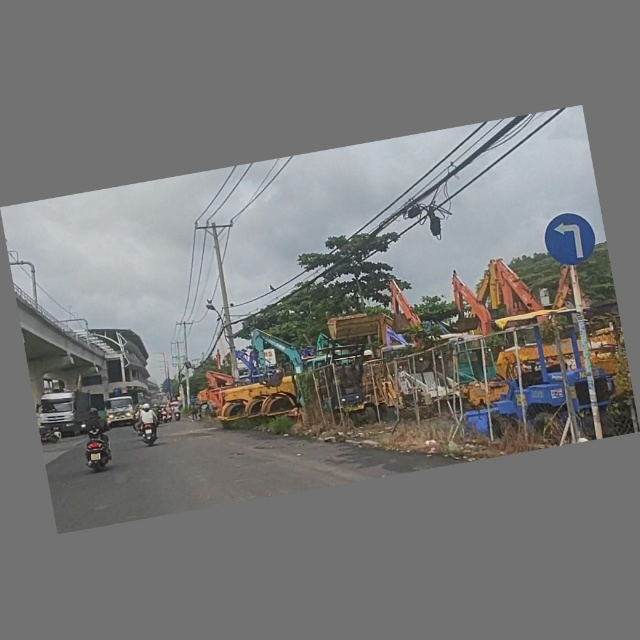R.301e: (541, 211, 600, 271)
